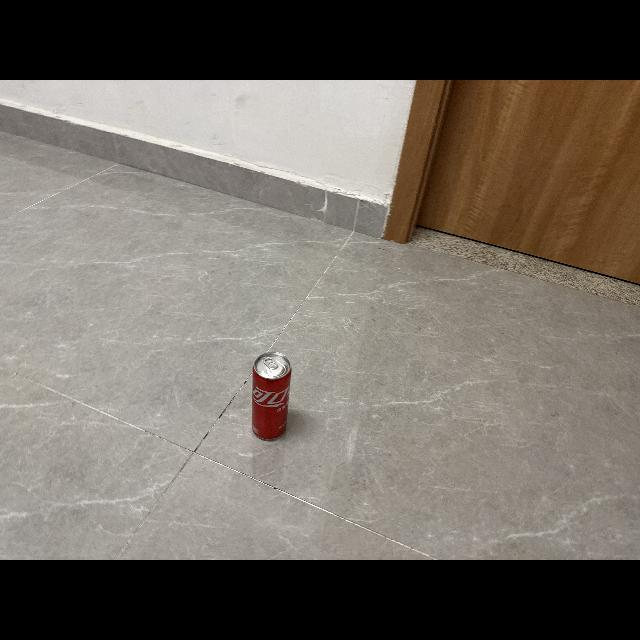Cola: (248, 350, 296, 448)
